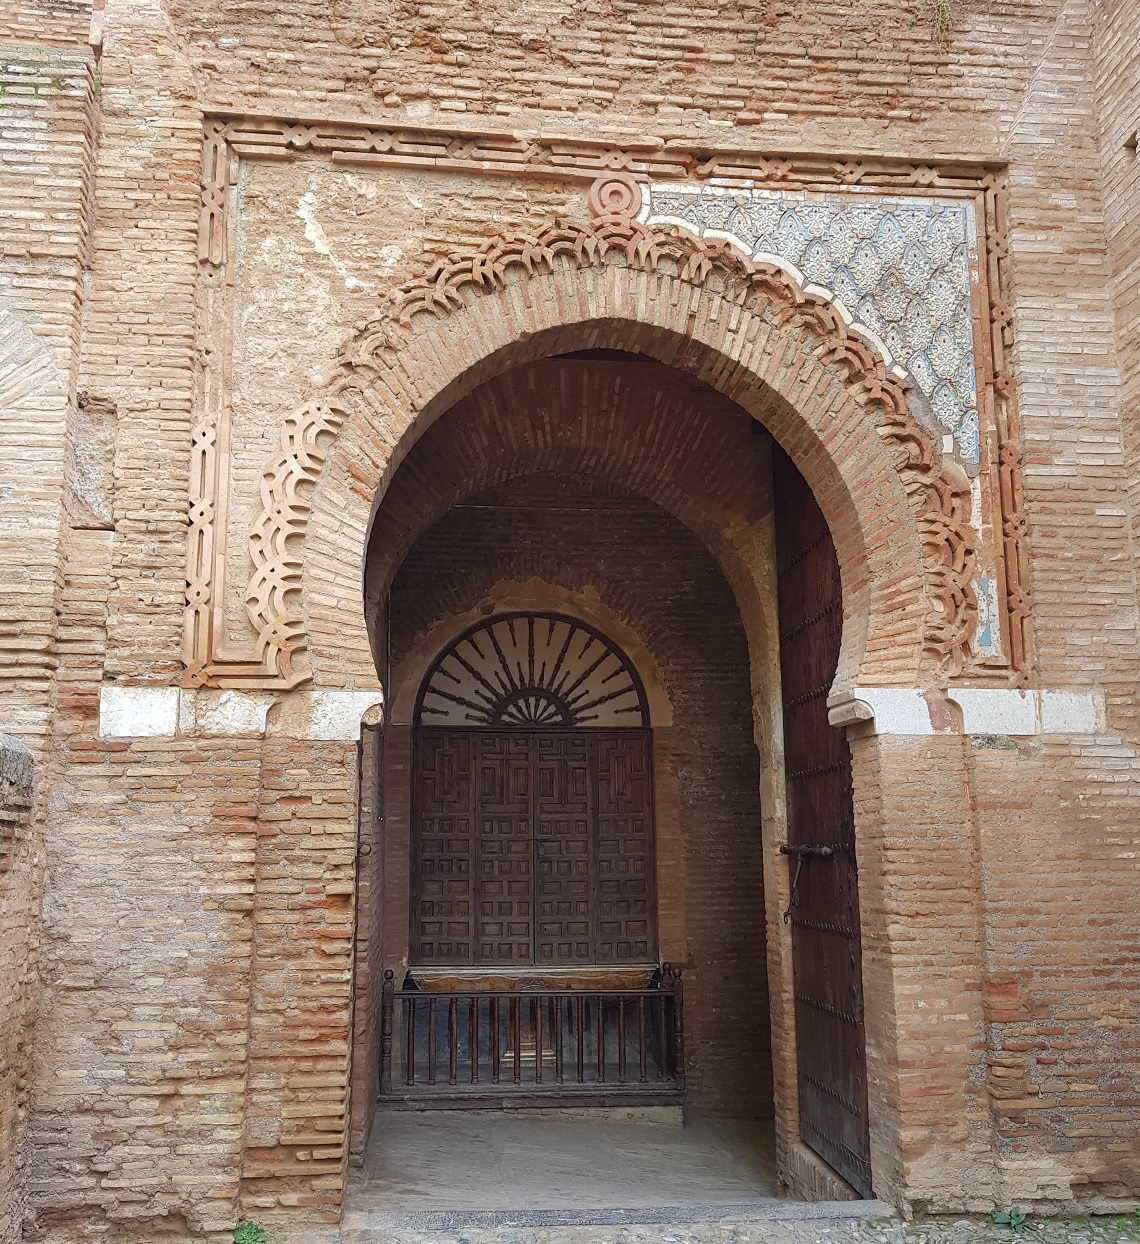arco-herradura: (324, 296, 910, 786)
